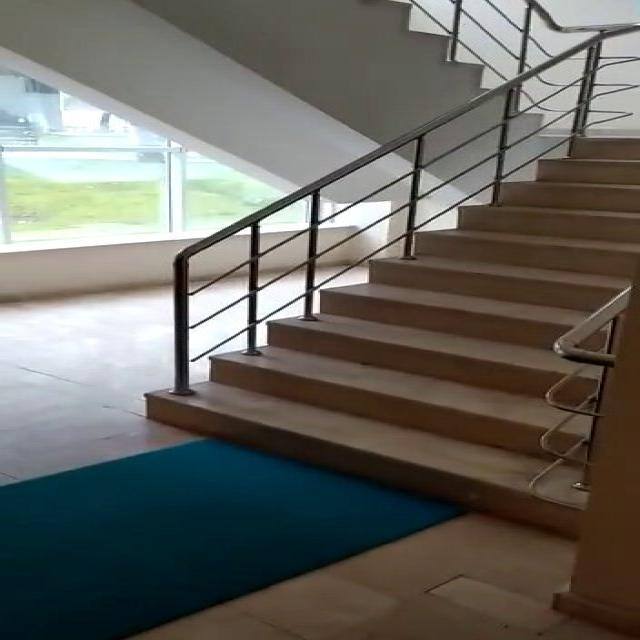stair: (99, 105, 640, 537)
